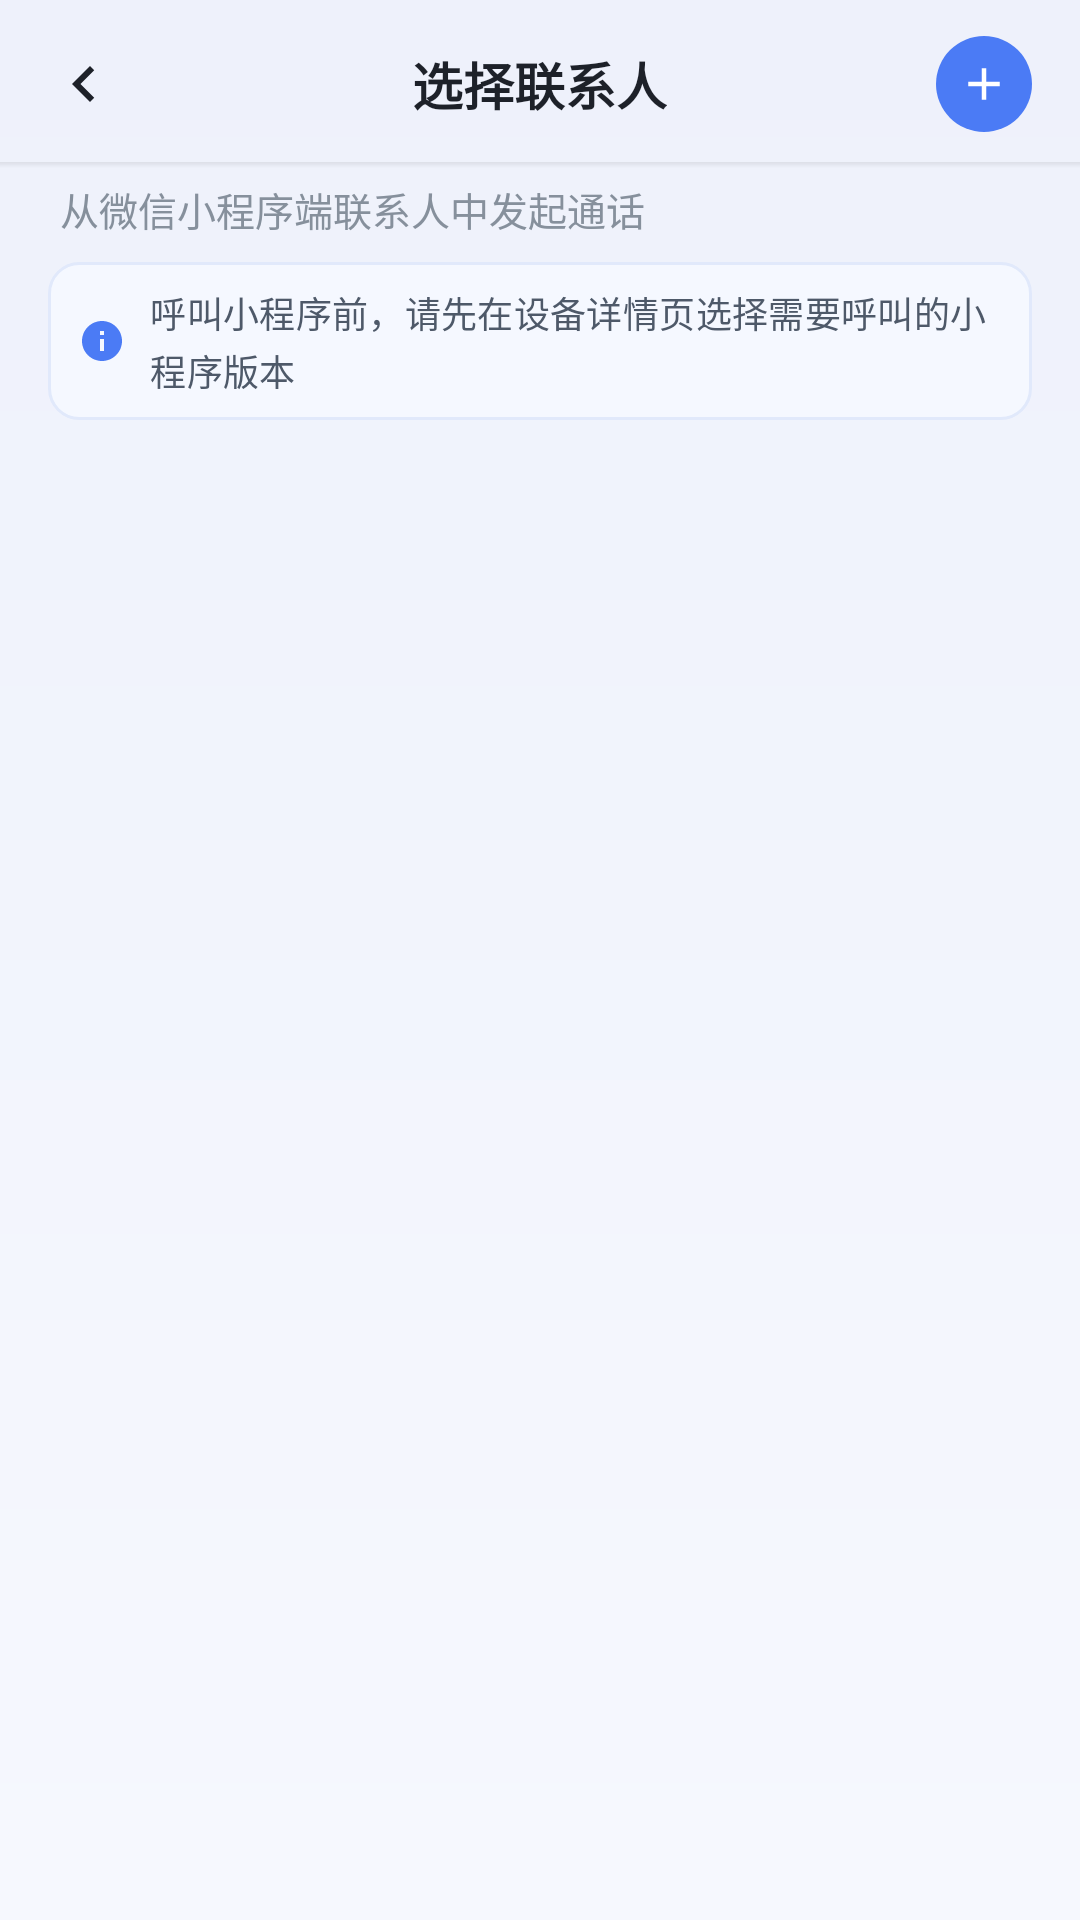

Locate icon controls on the screen. Image size 1080px×1920px, boxes as (x1, y1, x2, y2).
detail back: (72, 66, 94, 102)
home tip info: (82, 321, 122, 361)
添加联系人: (936, 36, 1032, 132)
